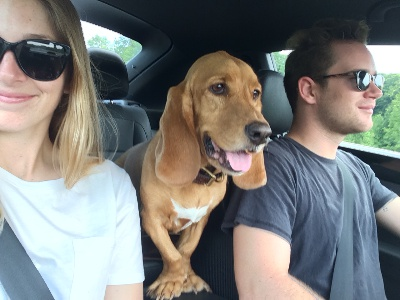daisy: (152, 37, 276, 201)
